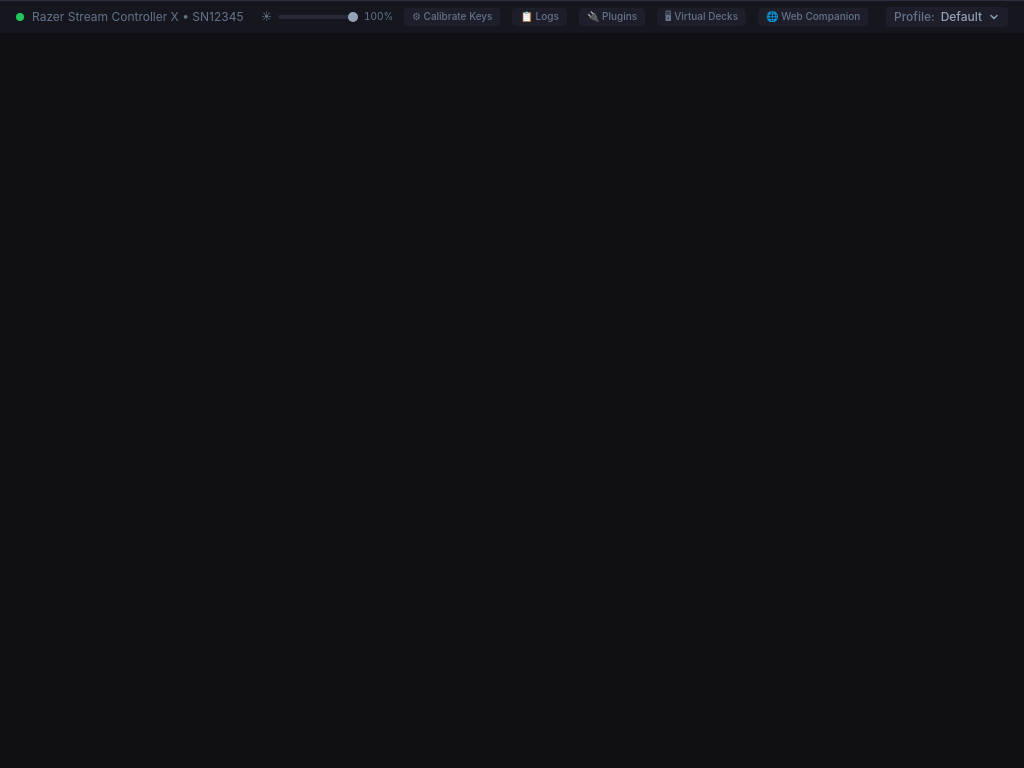
StatusBar › panel toggles › should open calibration panel on Calibrate click
Click the button "⚙ Calibrate Keys". click: (452, 17)
box: x1=404 y1=8 x2=500 y2=26
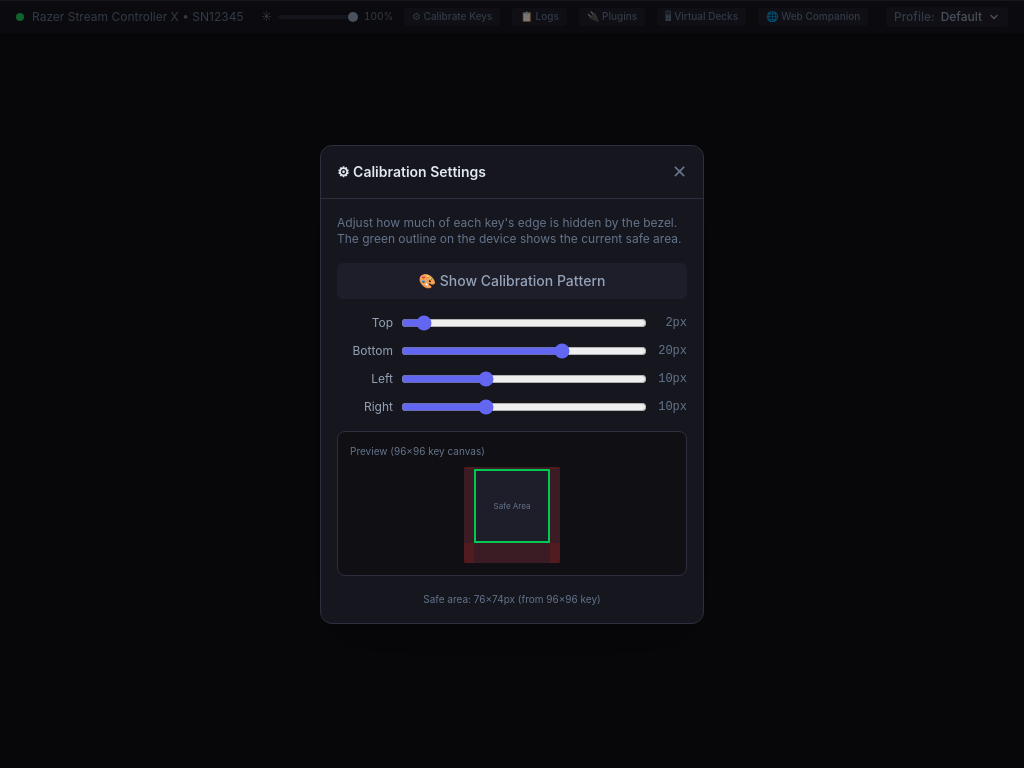
Expected: the heading "⚙ Calibration Settings" is shown, x1=337 y1=162 x2=486 y2=182
